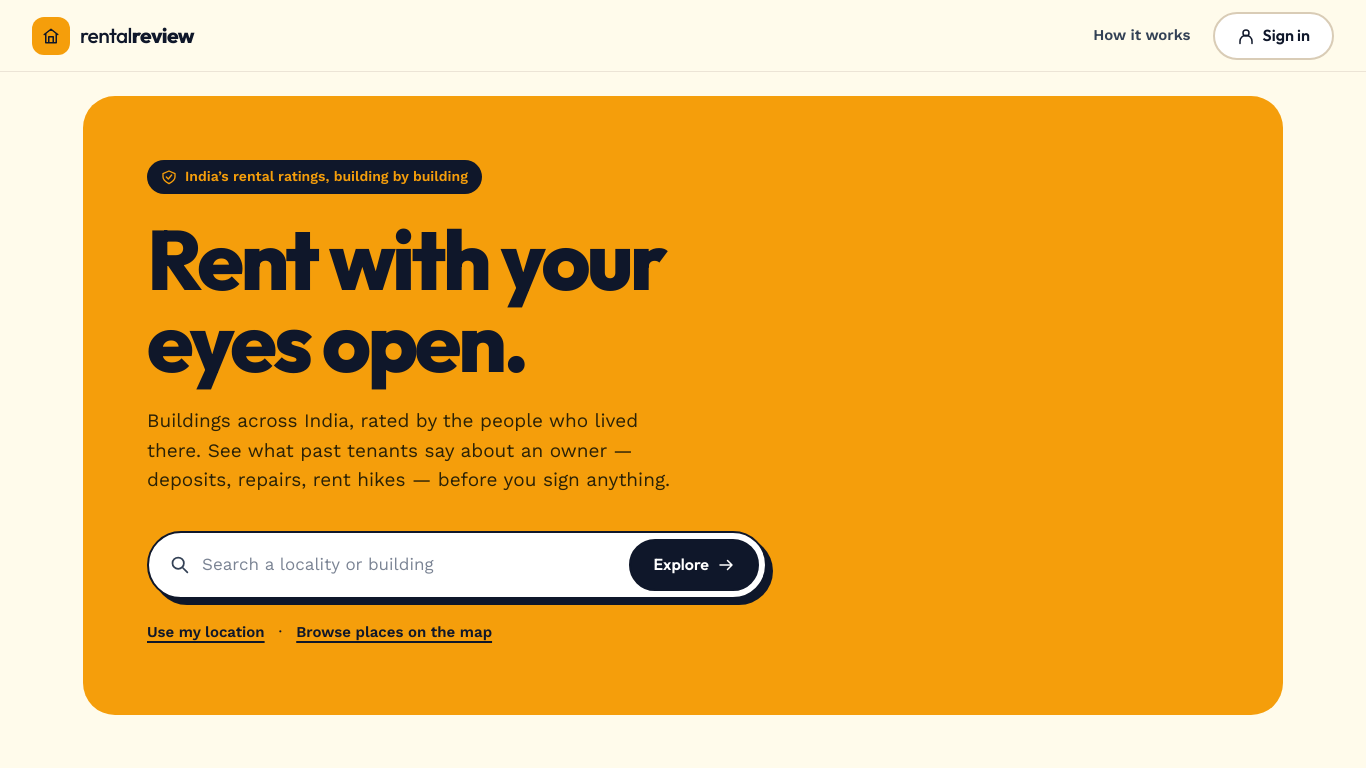
it: Rental Review › keeps the selected flat while switching accessible feedback tabs
Click the button "Browse places on the map" at (394, 633), box [296,615,492,651]
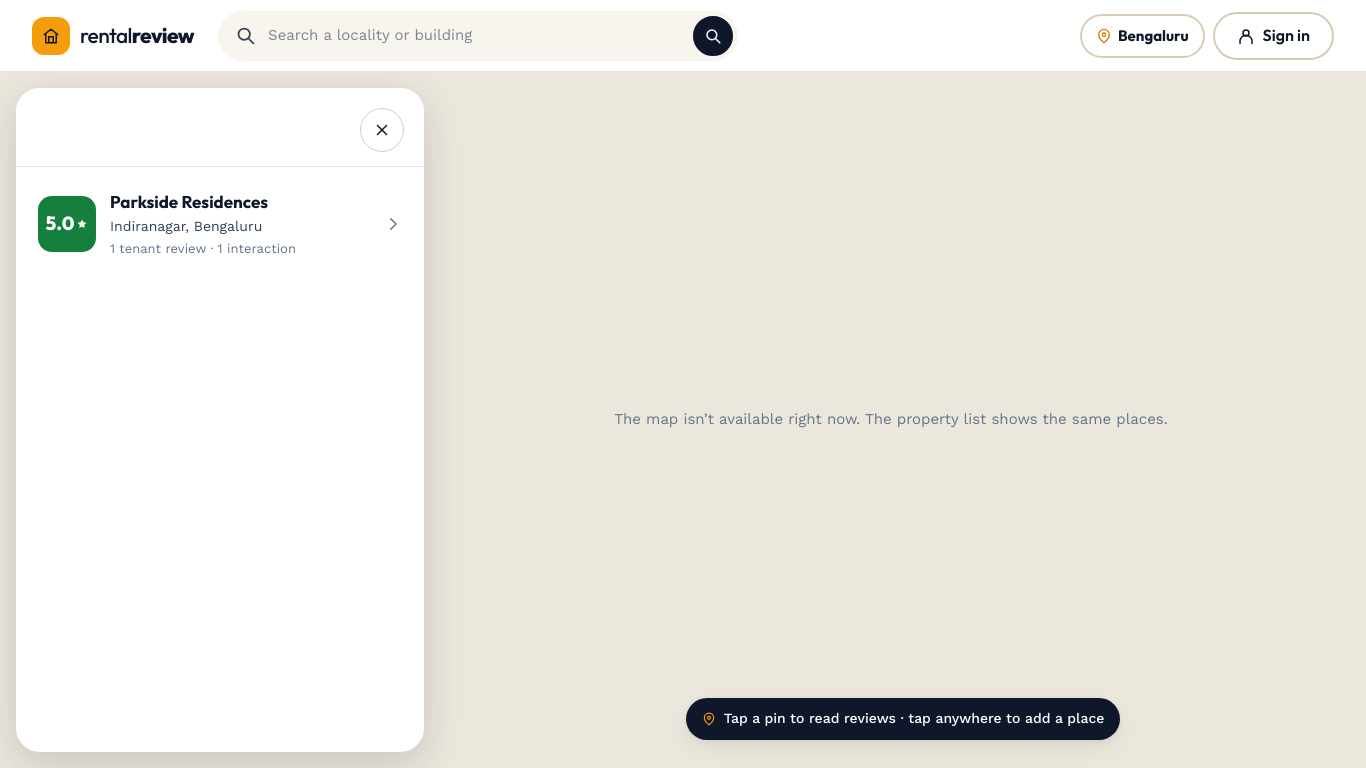
Click the button "Parkside Residences" at (220, 224), box [26,177,414,271]
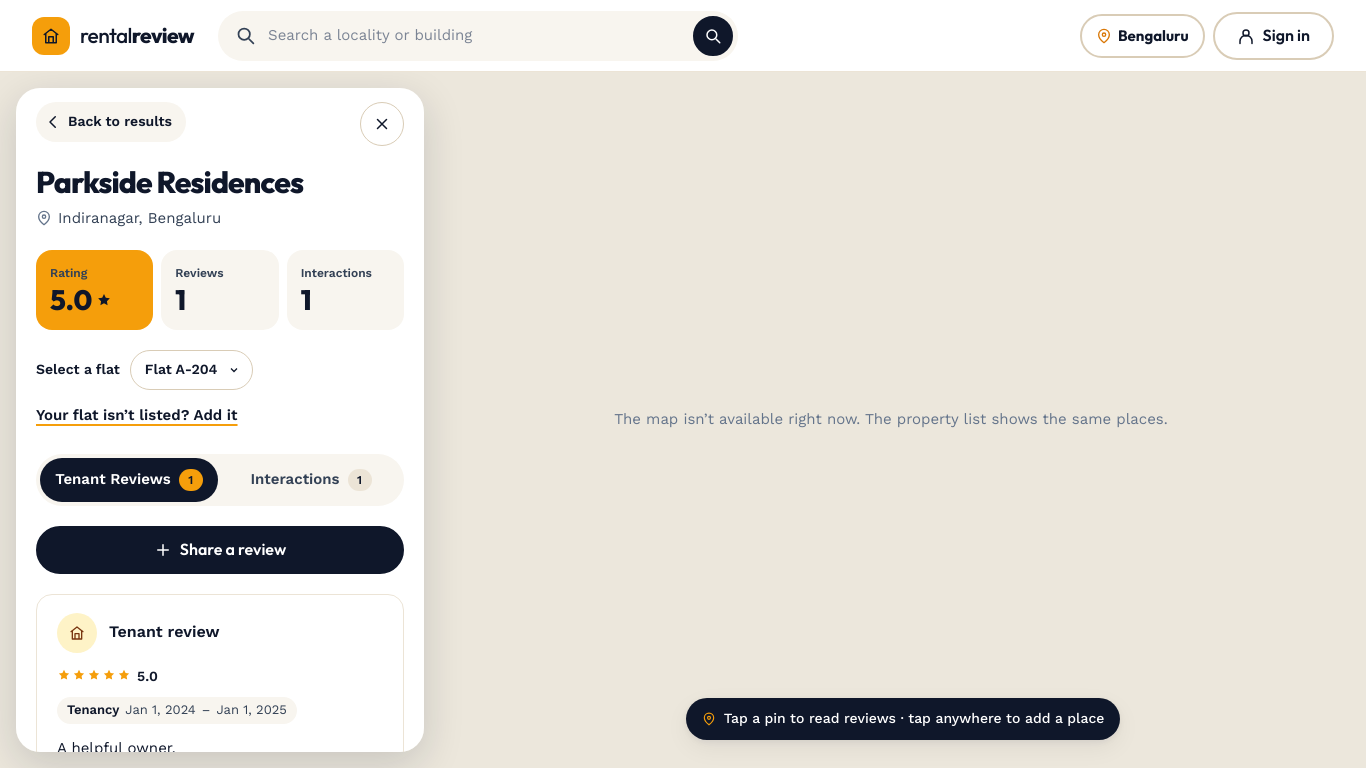
Now the text "A helpful owner." is shown, box [57,739,176,752]
Press Tab
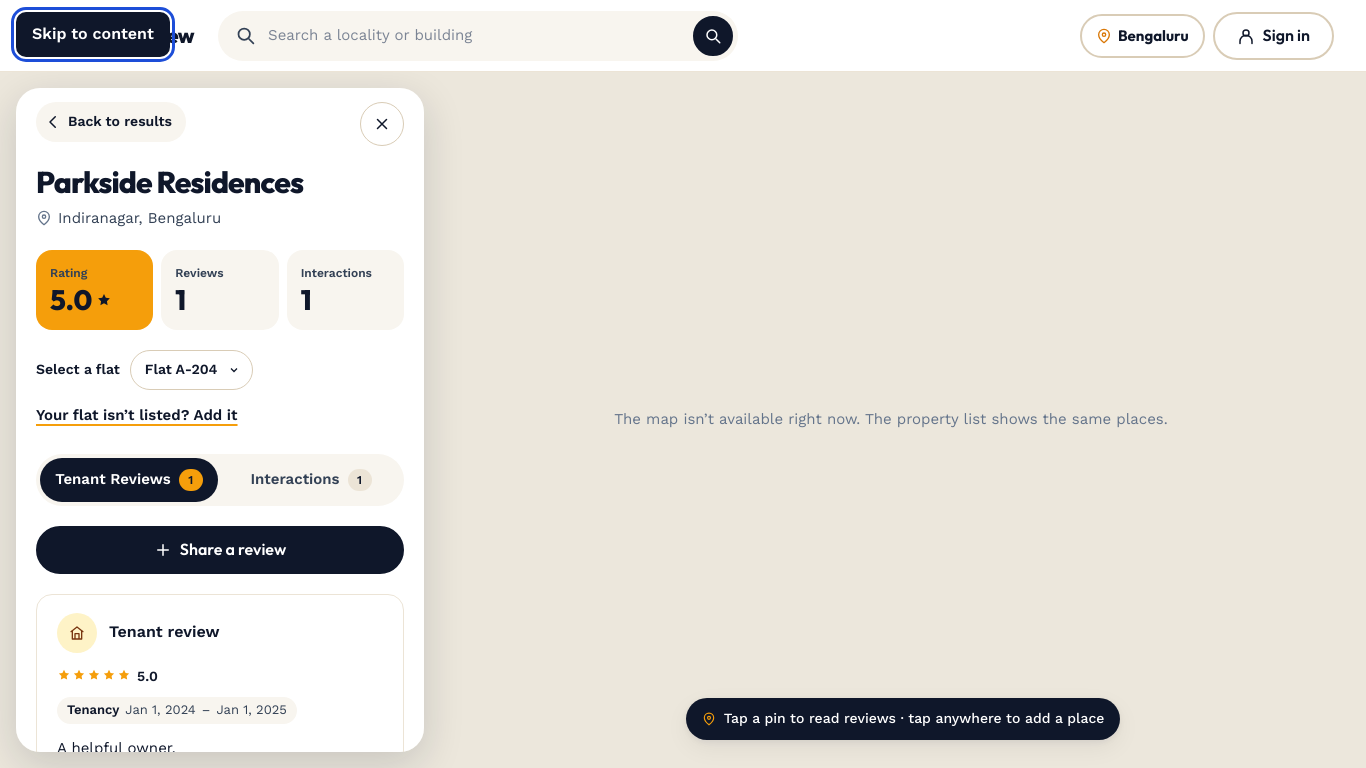
Click the tab "Tenant Reviews 1" at (129, 480), box [40,458,218,502]
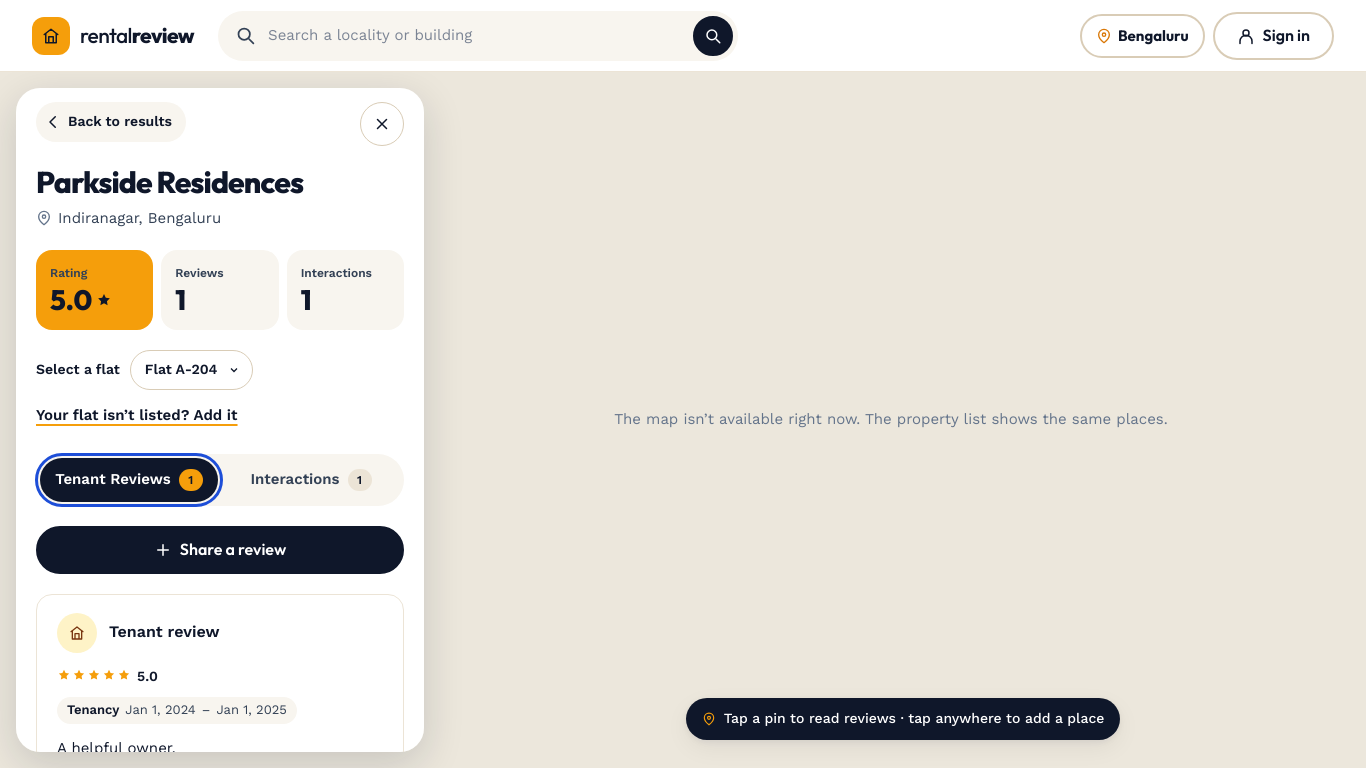
Press Arrowright
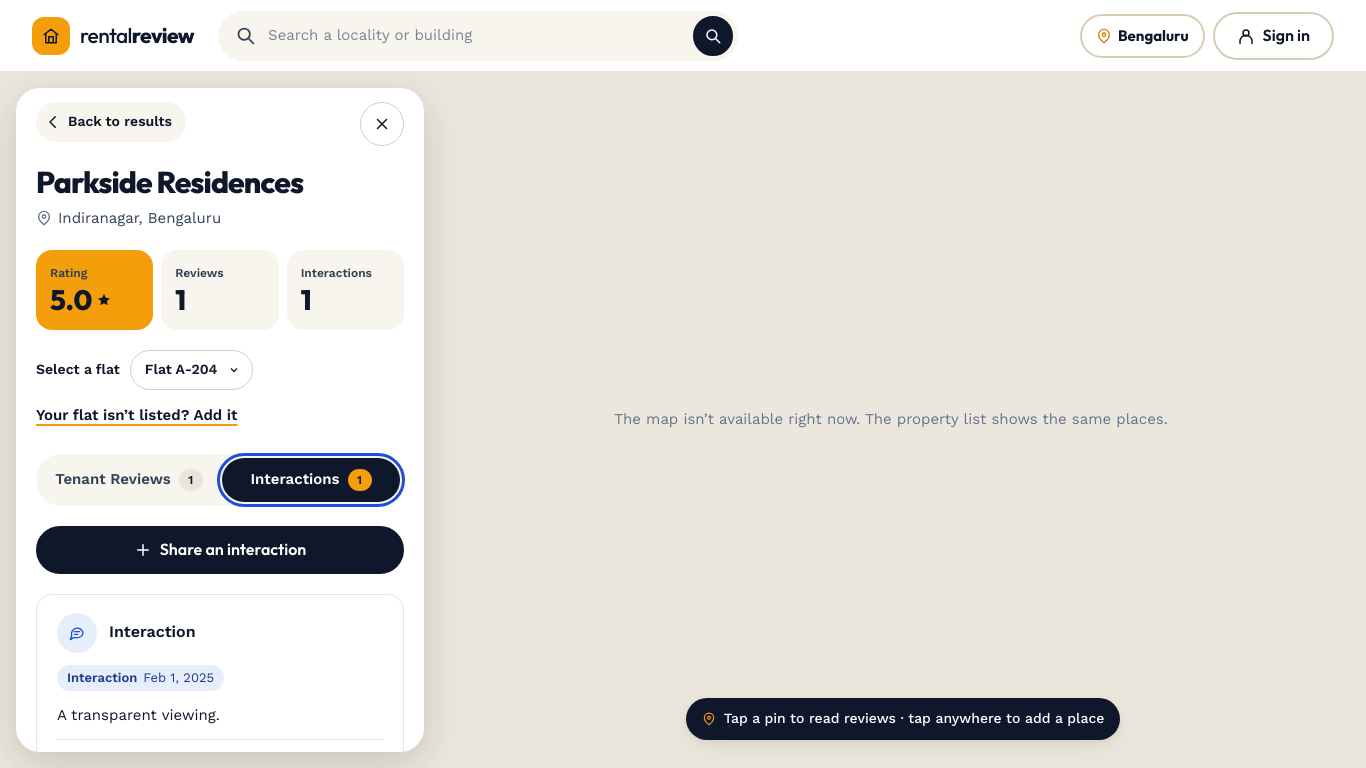
Now the dropdown labelled "Select a flat" shows "Flat A-204", box [130,350,253,390]
Now the text "A transparent viewing." is shown, box [57,706,220,724]
Now the 1st text "Interaction" is shown, box [109,622,196,641]
